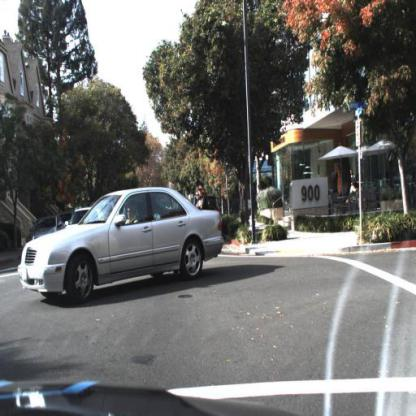car: (19, 187, 223, 308), (205, 193, 223, 216)
pedestrian: (196, 185, 207, 210), (195, 188, 201, 209)
